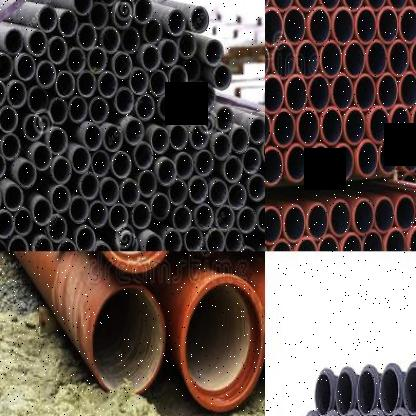pipe: (181, 274, 265, 413), (91, 285, 166, 396), (379, 363, 402, 416), (356, 364, 379, 416), (335, 365, 356, 416), (314, 367, 334, 416), (366, 40, 388, 76), (354, 75, 376, 111), (298, 108, 319, 145), (284, 7, 305, 43), (297, 42, 318, 78), (309, 75, 330, 111), (345, 108, 366, 144), (286, 145, 307, 181), (286, 76, 307, 111), (353, 200, 374, 235), (403, 360, 416, 416), (310, 8, 330, 44), (333, 8, 353, 44), (345, 41, 365, 77), (274, 42, 294, 78), (332, 74, 352, 110), (322, 108, 342, 144), (274, 110, 294, 146), (379, 138, 399, 174), (358, 140, 378, 176), (310, 144, 330, 180), (333, 145, 353, 181), (330, 200, 350, 236), (284, 206, 304, 242), (356, 8, 376, 43), (322, 42, 342, 77), (378, 74, 398, 109), (390, 106, 410, 141), (369, 107, 389, 142), (308, 204, 328, 239), (389, 40, 408, 76), (378, 9, 398, 43), (265, 9, 283, 46), (265, 76, 283, 113), (396, 196, 415, 230), (375, 198, 394, 232), (265, 148, 282, 185), (399, 7, 416, 42), (399, 73, 416, 108), (27, 86, 48, 114), (48, 214, 68, 243), (28, 29, 48, 57), (87, 46, 107, 74), (158, 93, 178, 121), (24, 114, 44, 142), (16, 160, 36, 188), (109, 203, 129, 231), (265, 208, 281, 243), (88, 200, 107, 229), (38, 5, 58, 32), (4, 28, 24, 55), (66, 47, 86, 74), (16, 54, 36, 81), (36, 61, 56, 88), (8, 81, 28, 108), (114, 87, 134, 114), (89, 97, 109, 124), (48, 128, 68, 155), (1, 134, 21, 161), (32, 144, 52, 171), (52, 157, 72, 184), (120, 179, 140, 206), (4, 184, 24, 211), (132, 202, 152, 229), (190, 6, 209, 34), (59, 10, 78, 38), (48, 36, 67, 64), (169, 65, 188, 93), (56, 71, 75, 99), (136, 93, 155, 121), (125, 118, 144, 146), (151, 127, 170, 155), (168, 178, 187, 206), (158, 158, 176, 187), (141, 45, 161, 71), (68, 97, 88, 123), (242, 148, 262, 174), (33, 199, 53, 225), (178, 32, 197, 59), (160, 40, 179, 67), (130, 68, 149, 95), (178, 92, 197, 119), (49, 98, 68, 125), (191, 123, 210, 150), (103, 125, 122, 152), (213, 134, 232, 161), (134, 142, 153, 169), (224, 156, 243, 183), (139, 170, 158, 197), (100, 178, 119, 205), (151, 193, 170, 220), (69, 196, 88, 223), (216, 205, 235, 232), (173, 206, 192, 233), (13, 209, 32, 236), (401, 137, 416, 171), (90, 2, 108, 30), (78, 23, 96, 51), (102, 26, 120, 54), (72, 146, 90, 174), (52, 185, 70, 213), (196, 203, 214, 231), (205, 40, 224, 66), (213, 64, 232, 90), (99, 72, 118, 98), (230, 127, 249, 153), (195, 150, 214, 176), (113, 152, 132, 178), (80, 173, 99, 199), (189, 177, 208, 203), (209, 180, 228, 206), (228, 184, 247, 210), (76, 225, 95, 251), (114, 2, 132, 29), (168, 9, 186, 36), (122, 27, 140, 54), (114, 52, 132, 79), (198, 84, 216, 111), (216, 106, 234, 133), (0, 106, 18, 133), (84, 124, 102, 151), (92, 150, 110, 177), (176, 153, 194, 180), (144, 18, 162, 44), (150, 70, 168, 96), (78, 71, 96, 97), (238, 207, 256, 233), (248, 117, 265, 144), (248, 174, 265, 201), (134, 0, 153, 24), (182, 57, 200, 82), (170, 125, 188, 150), (184, 226, 202, 251), (224, 228, 243, 251), (206, 228, 225, 251), (362, 230, 382, 251), (162, 229, 181, 251), (118, 233, 139, 252), (341, 233, 362, 252), (386, 229, 404, 251), (0, 211, 14, 239), (0, 53, 14, 80), (33, 235, 53, 252), (318, 235, 338, 252), (8, 236, 29, 252), (73, 0, 92, 16), (144, 233, 160, 252), (296, 239, 318, 251), (265, 110, 271, 147), (57, 240, 77, 251), (272, 0, 292, 11), (270, 241, 292, 251), (257, 206, 265, 233), (387, 407, 411, 416), (319, 0, 340, 10), (410, 40, 416, 75), (364, 407, 387, 416), (296, 0, 316, 10), (366, 0, 386, 10), (388, 0, 408, 10), (343, 0, 363, 10), (408, 228, 416, 251), (0, 79, 6, 107), (0, 151, 6, 178), (342, 409, 364, 416), (93, 243, 112, 251), (321, 409, 342, 416), (412, 104, 416, 139), (301, 409, 321, 416), (99, 0, 118, 6), (0, 238, 7, 251), (262, 137, 265, 167), (409, 0, 416, 8), (0, 186, 2, 212)
